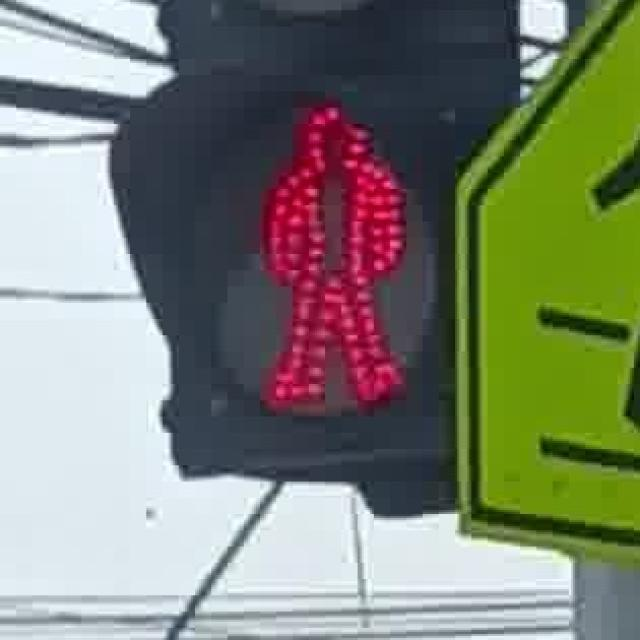red-crossing: (235, 75, 420, 431)
